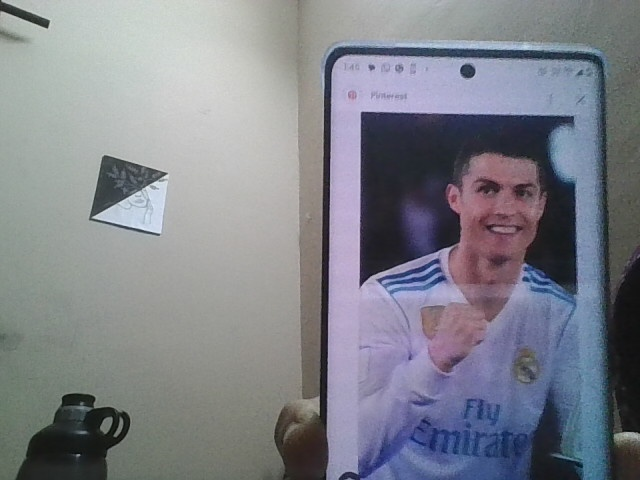fake: (446, 112, 558, 271)
